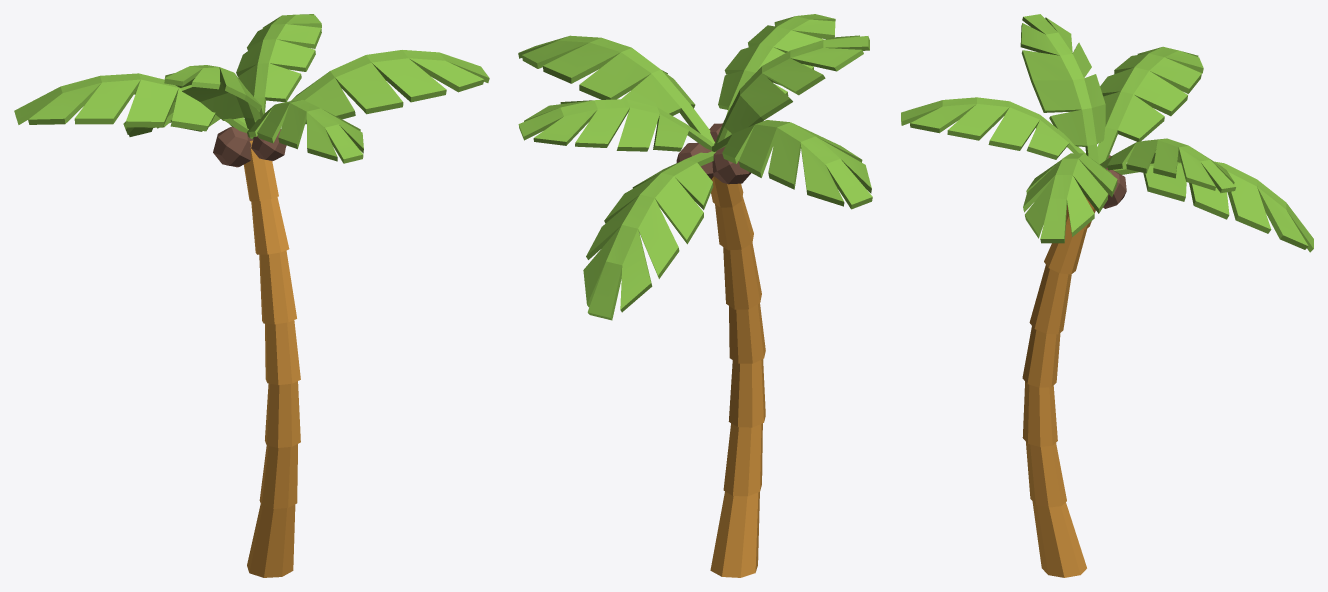
Rendered from Palm tree.glb.
3 renders of one model, left to right at view 1: azimuth 30°, elevation 25°; view 2: azimuth 150°, elevation 25°; view 3: azimuth 270°, elevation 25°, orthographic. The views are drawn at different scales.
Visible parts, largest first — view 1: palm_tree_01; view 2: palm_tree_01; view 3: palm_tree_01.
Part boxes in pixels (<box>): palm_tree_01: <box>14,14,489,577</box>; palm_tree_01: <box>518,14,872,577</box>; palm_tree_01: <box>901,14,1313,577</box>.
Bounding box in the file's own units: 160 × 200 × 149.
